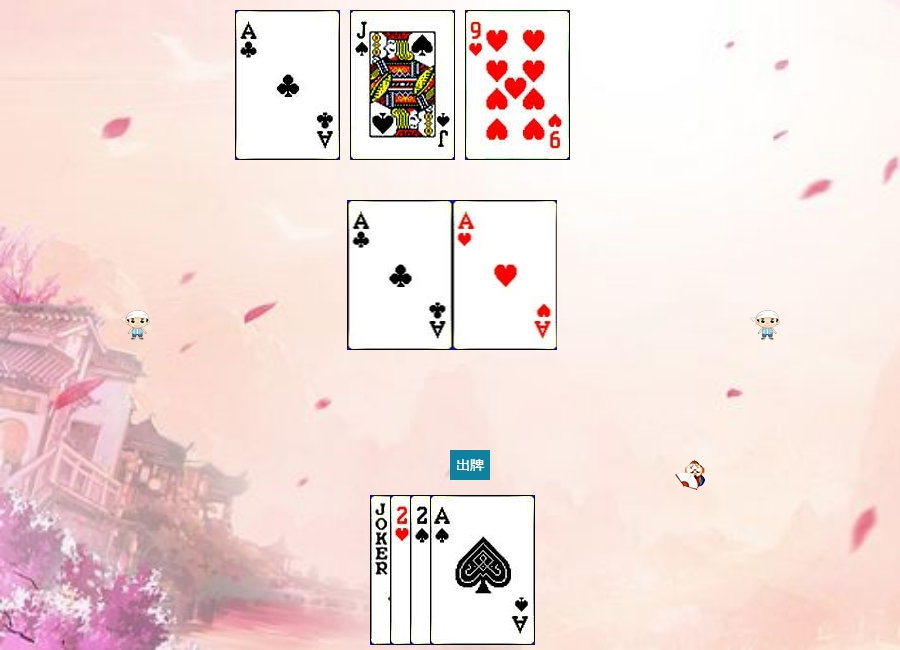11~4: (350, 10, 455, 160)
14~2: (235, 10, 340, 160), (348, 200, 453, 350)
14~3: (453, 200, 558, 350)
14~4: (430, 495, 535, 645)
15~3: (390, 495, 495, 645)
15~4: (410, 495, 515, 645)
17~3: (370, 495, 475, 645)
9~3: (465, 10, 570, 160)
